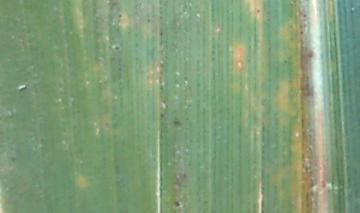tarspot: (172, 119, 184, 129), (110, 44, 122, 52), (305, 50, 315, 59), (173, 199, 180, 208), (255, 7, 261, 15), (158, 29, 164, 37), (117, 11, 122, 19), (159, 112, 165, 118), (283, 58, 289, 63)
